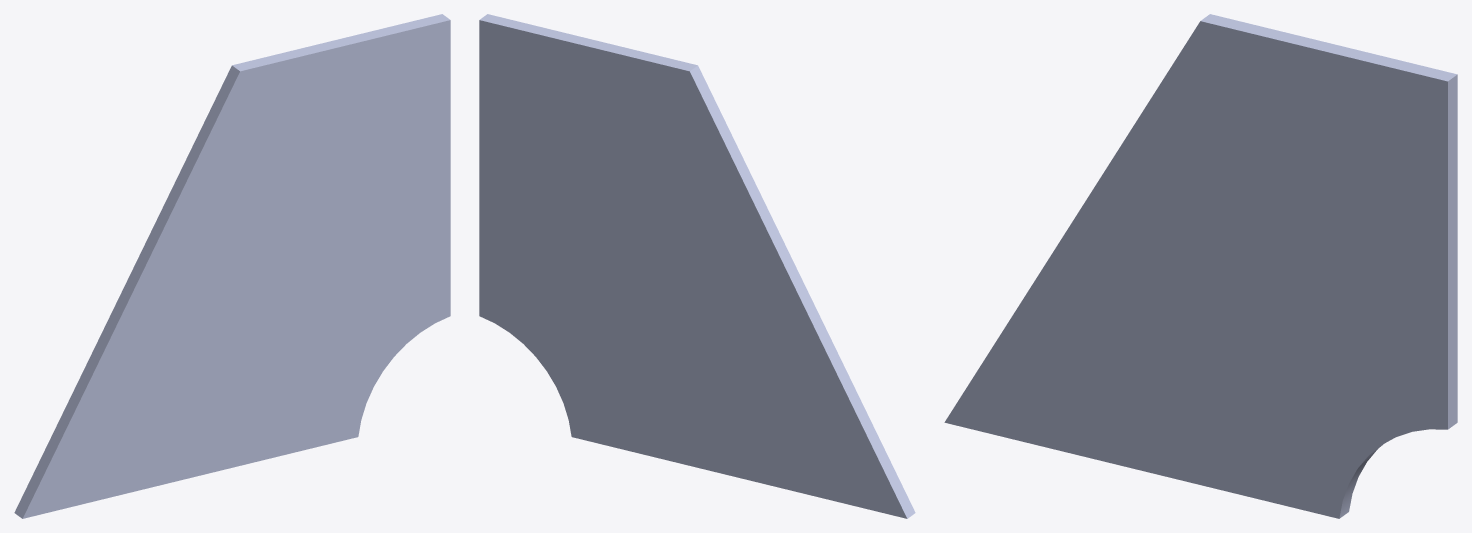
File: hitzone1.fbx
The picture shows the model from 3 angles, left to right: view 1: azimuth 30°, elevation 25°; view 2: azimuth 150°, elevation 25°; view 3: azimuth 330°, elevation 25°; orthographic projection. The views are drawn at different scales.
Visible parts, largest first — view 1: Body_1; view 2: Body_1; view 3: Body_1.
Part boxes in pixels (x1,y1,x2,y2): Body_1: (14, 14, 450, 518); Body_1: (479, 14, 915, 518); Body_1: (944, 14, 1457, 518).
Size of the model in its own units: 0.0598 by 0.002 by 0.0527.
